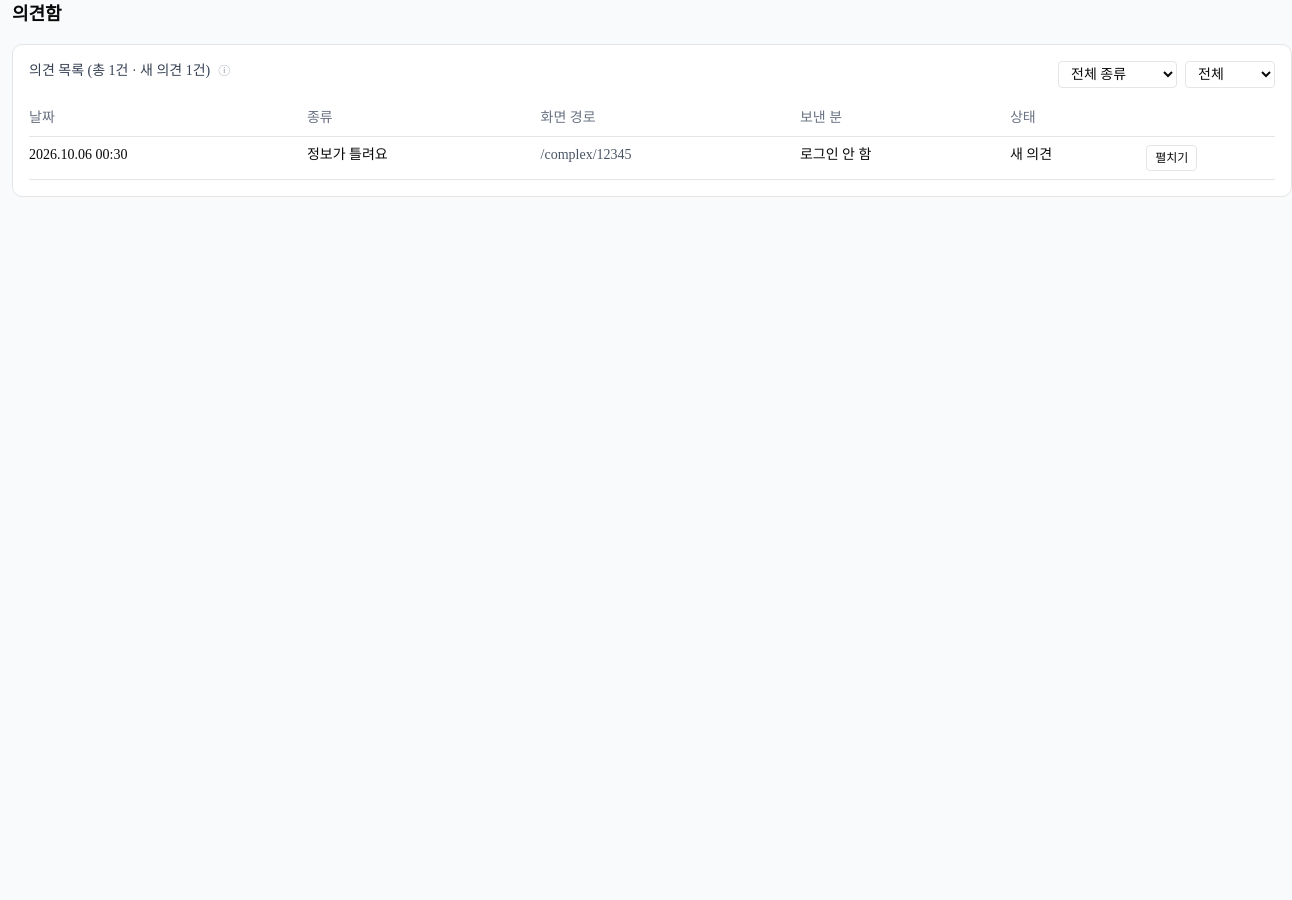
Test case: /admin/opinions 답장 › 이메일이 없으면 '로그인 안 한 분이라 메일은 없어요'
Click the button "펼치기" at x=1172, y=158, box x1=1146 y1=145 x2=1197 y2=171
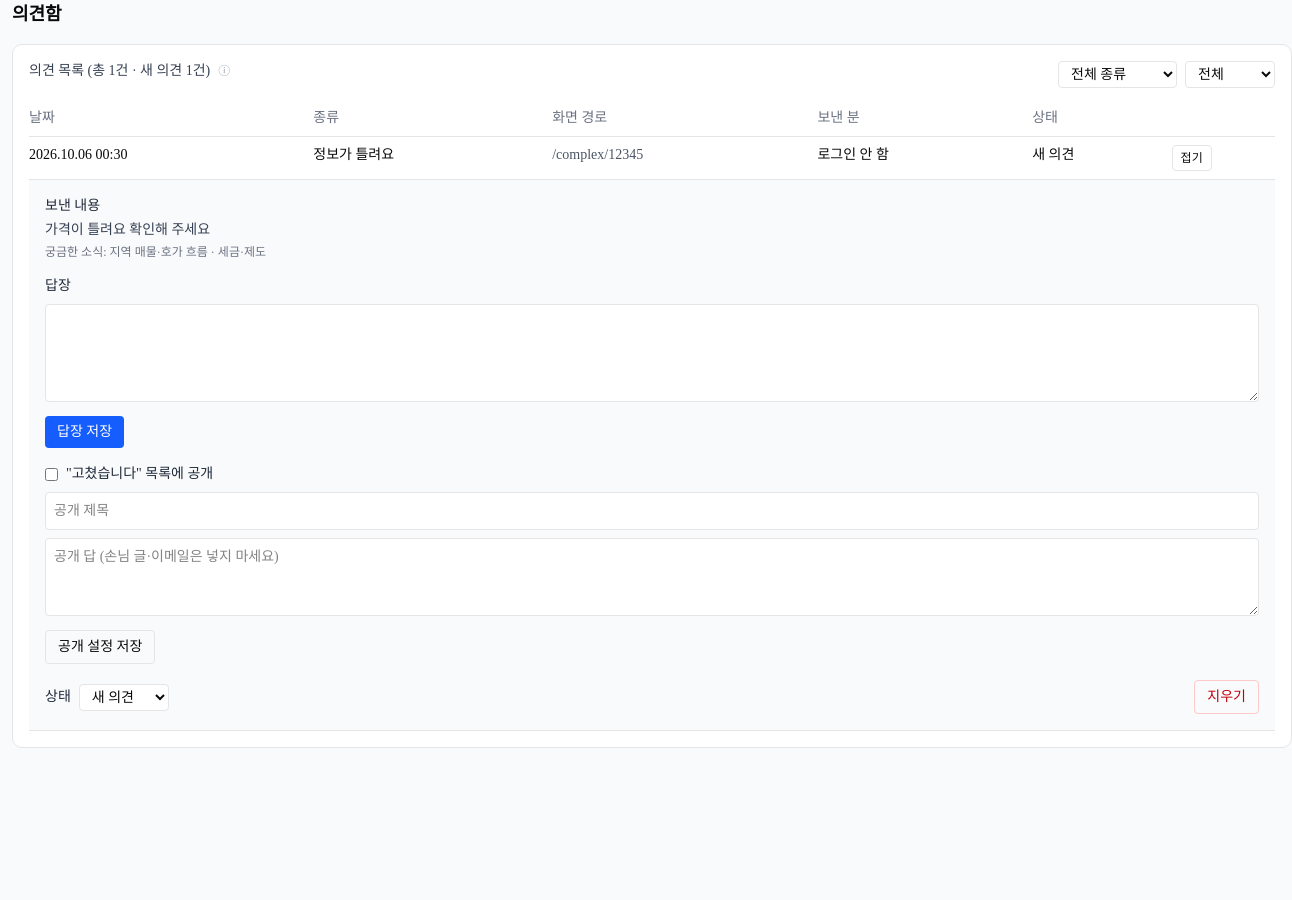
Type "답" into the text box labelled "답장" at x=652, y=353, box x1=45 y1=304 x2=1259 y2=402
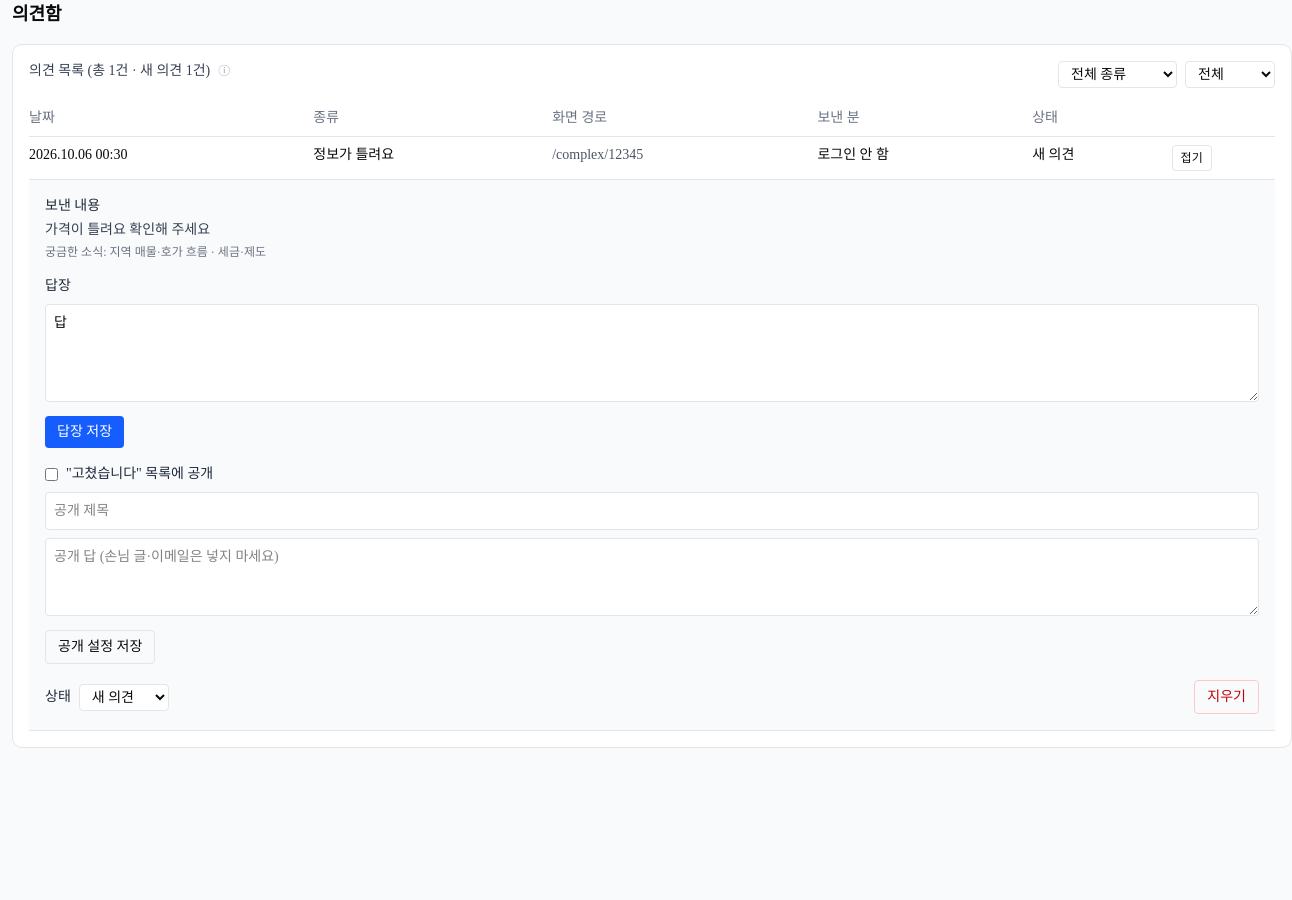
Click the button "답장 저장" at x=84, y=432, box x1=45 y1=416 x2=124 y2=448
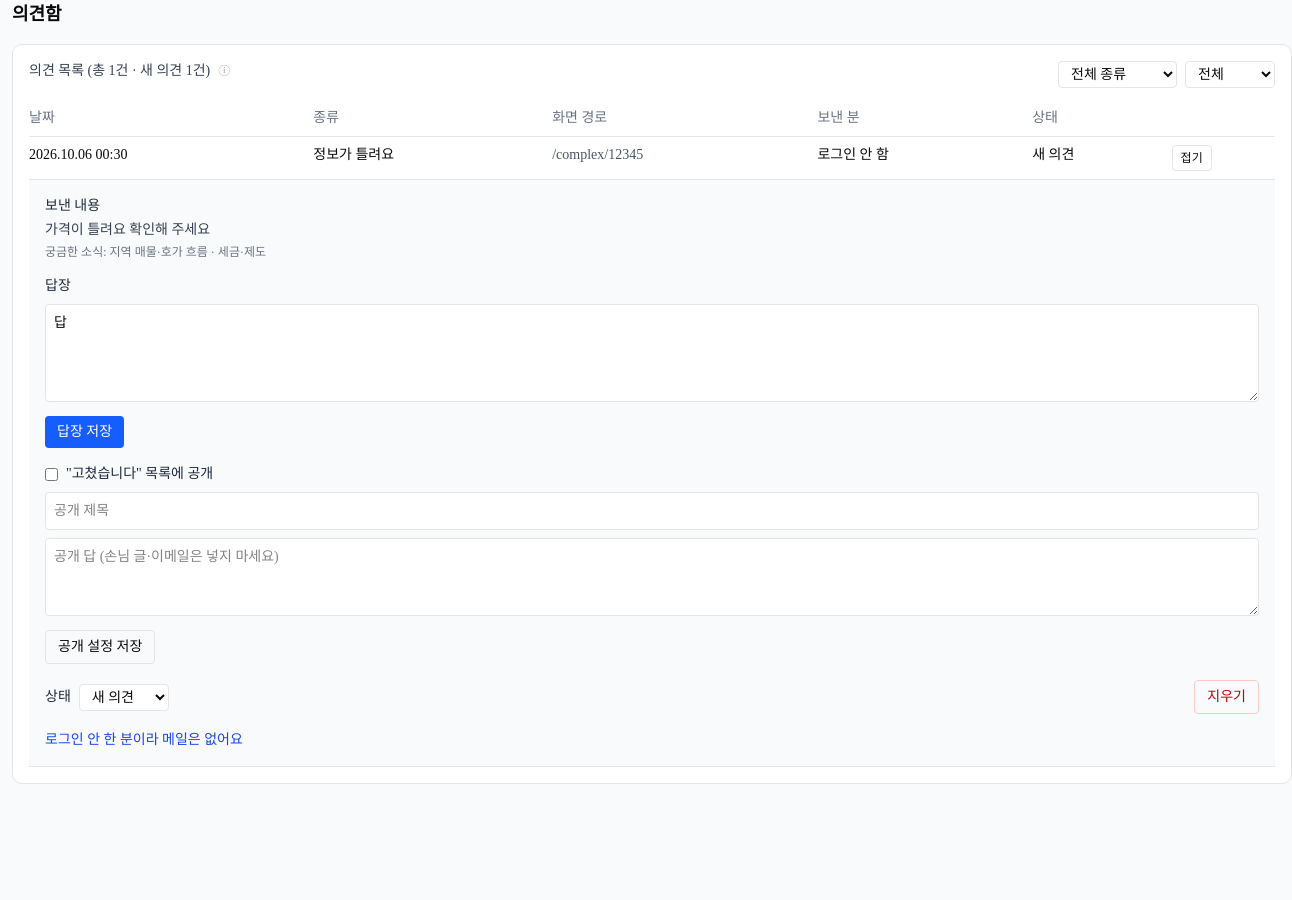
Result: the text "로그인 안 한 분이라 메일은 없어요" is shown at x1=45 y1=732 x2=243 y2=747
